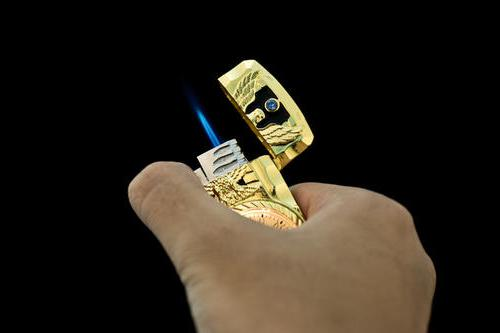fire: (191, 102, 227, 158)
